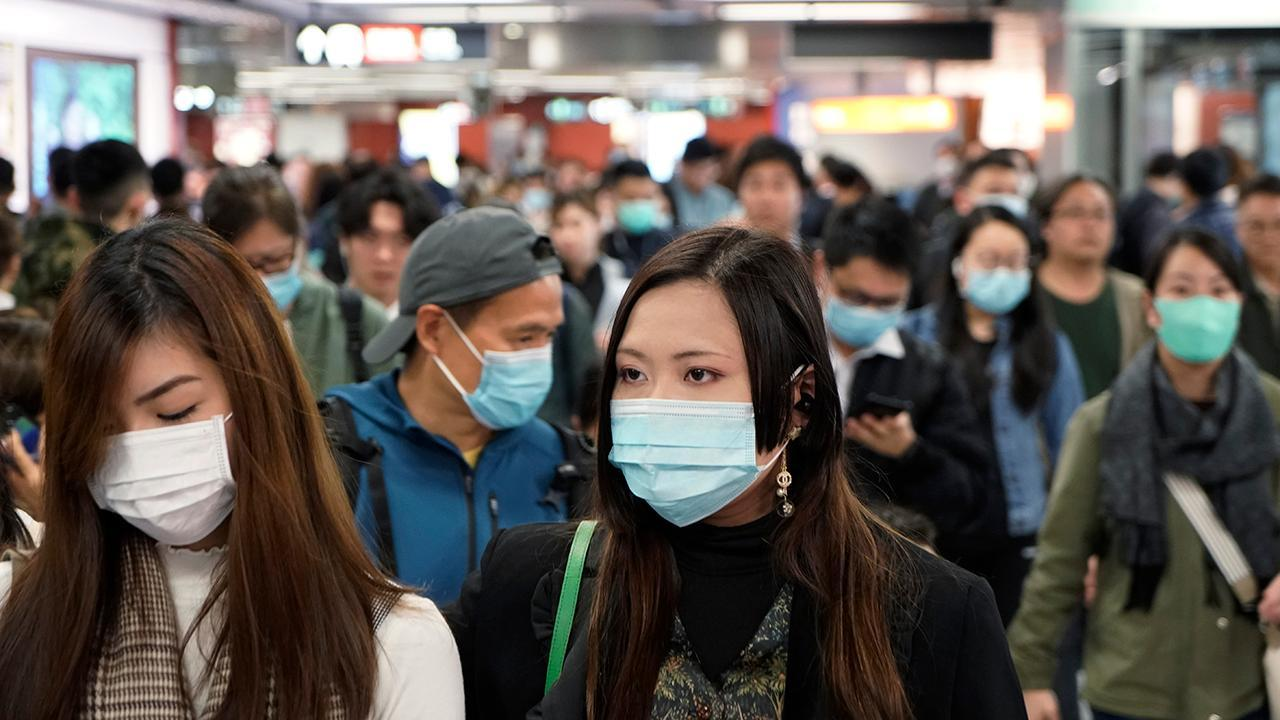Wearing Mask: (29, 216, 295, 582), (606, 239, 846, 524), (376, 213, 596, 472), (1143, 233, 1261, 380), (823, 202, 924, 362), (951, 215, 1043, 317), (595, 145, 683, 244)
